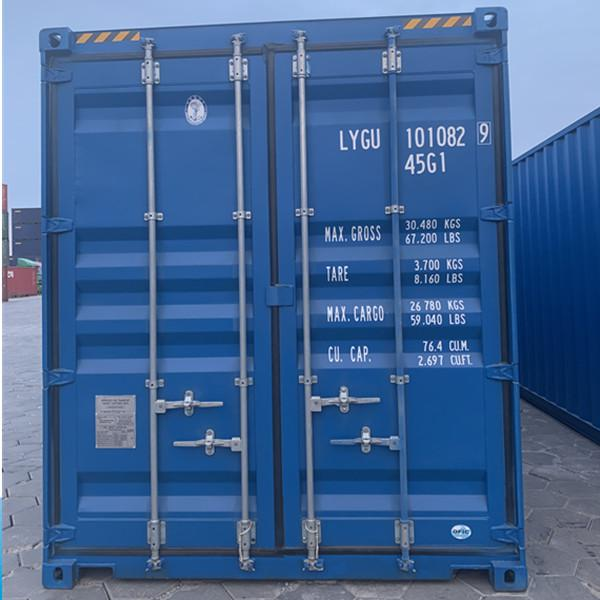ContainerNum: (336, 120, 494, 177)
